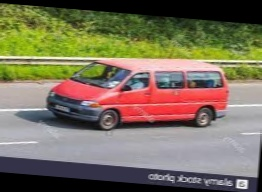van: (43, 46, 238, 141)
